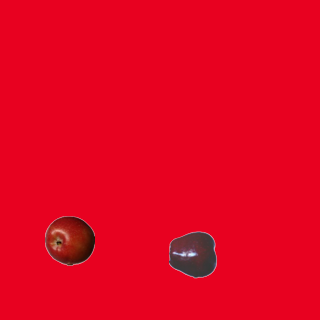Apple Braeburn: (44, 215, 94, 265)
Apple Red Delicious: (168, 229, 218, 279)
